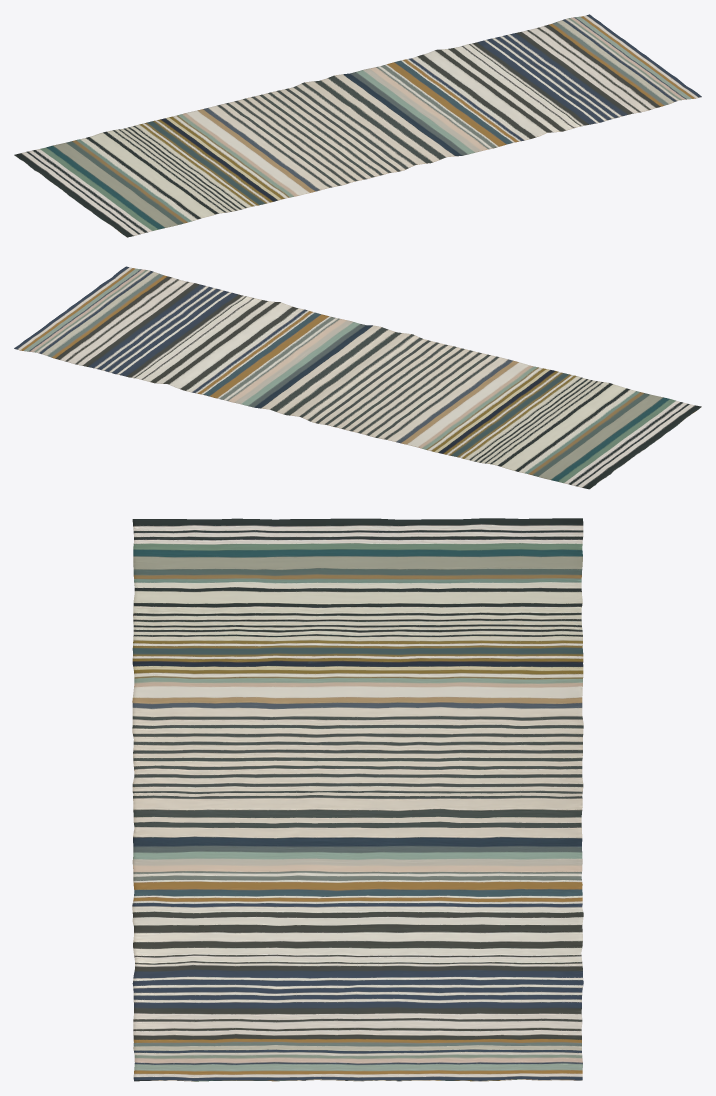
File: carpet.gltf
3 renders of one model, top to bottom at view 1: azimuth 30°, elevation 25°; view 2: azimuth 150°, elevation 25°; view 3: azimuth 270°, elevation 25°, orthographic. The views are drawn at different scales.
Parts seen in each view (by area): view 1: carpet; view 2: carpet; view 3: carpet.
Boxes of the visible parts, box(x1,y1,x2,y2) form: carpet: box(14, 14, 701, 237); carpet: box(14, 266, 701, 489); carpet: box(132, 518, 583, 1081).
Size of the model in its own units: 2.96 by 0.0181 by 1.01.
Materials: 1 (1 with a texture image).
